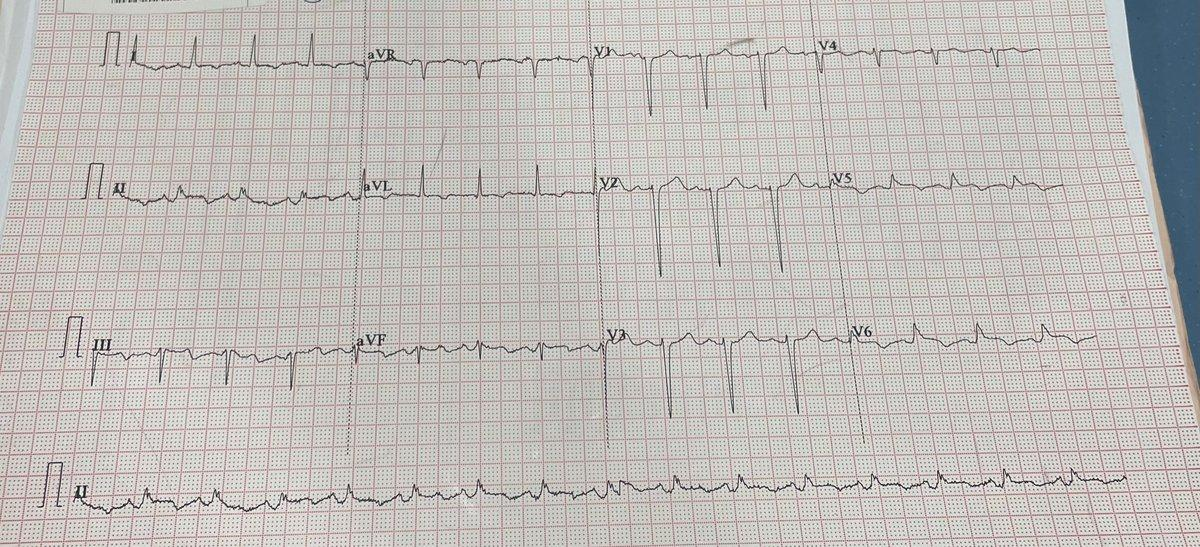Lead_I: (123, 25, 366, 96)
Lead_II: (105, 156, 364, 225)
Lead_III: (85, 325, 355, 402)
Lead_II_ext: (69, 455, 1150, 529)
Lead_V1: (590, 29, 819, 131)
Lead_V2: (596, 155, 833, 286)
Lead_V3: (603, 308, 851, 435)
Lead_V4: (817, 21, 1047, 88)
Lead_V5: (830, 151, 1068, 217)
Lead_V6: (853, 304, 1112, 374)
Lead_aVF: (353, 314, 607, 384)
Lead_aVL: (361, 155, 597, 226)
Lead_aVR: (364, 25, 594, 110)
